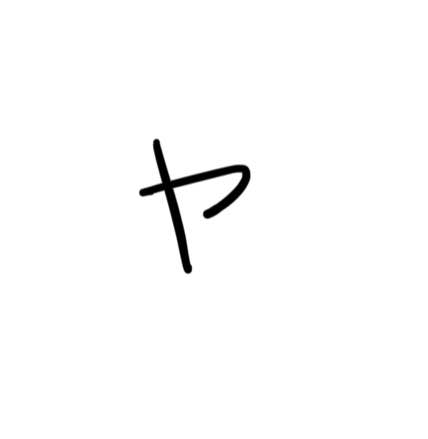ya: (121, 130, 262, 286)
